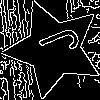J: (28, 23, 82, 64)
